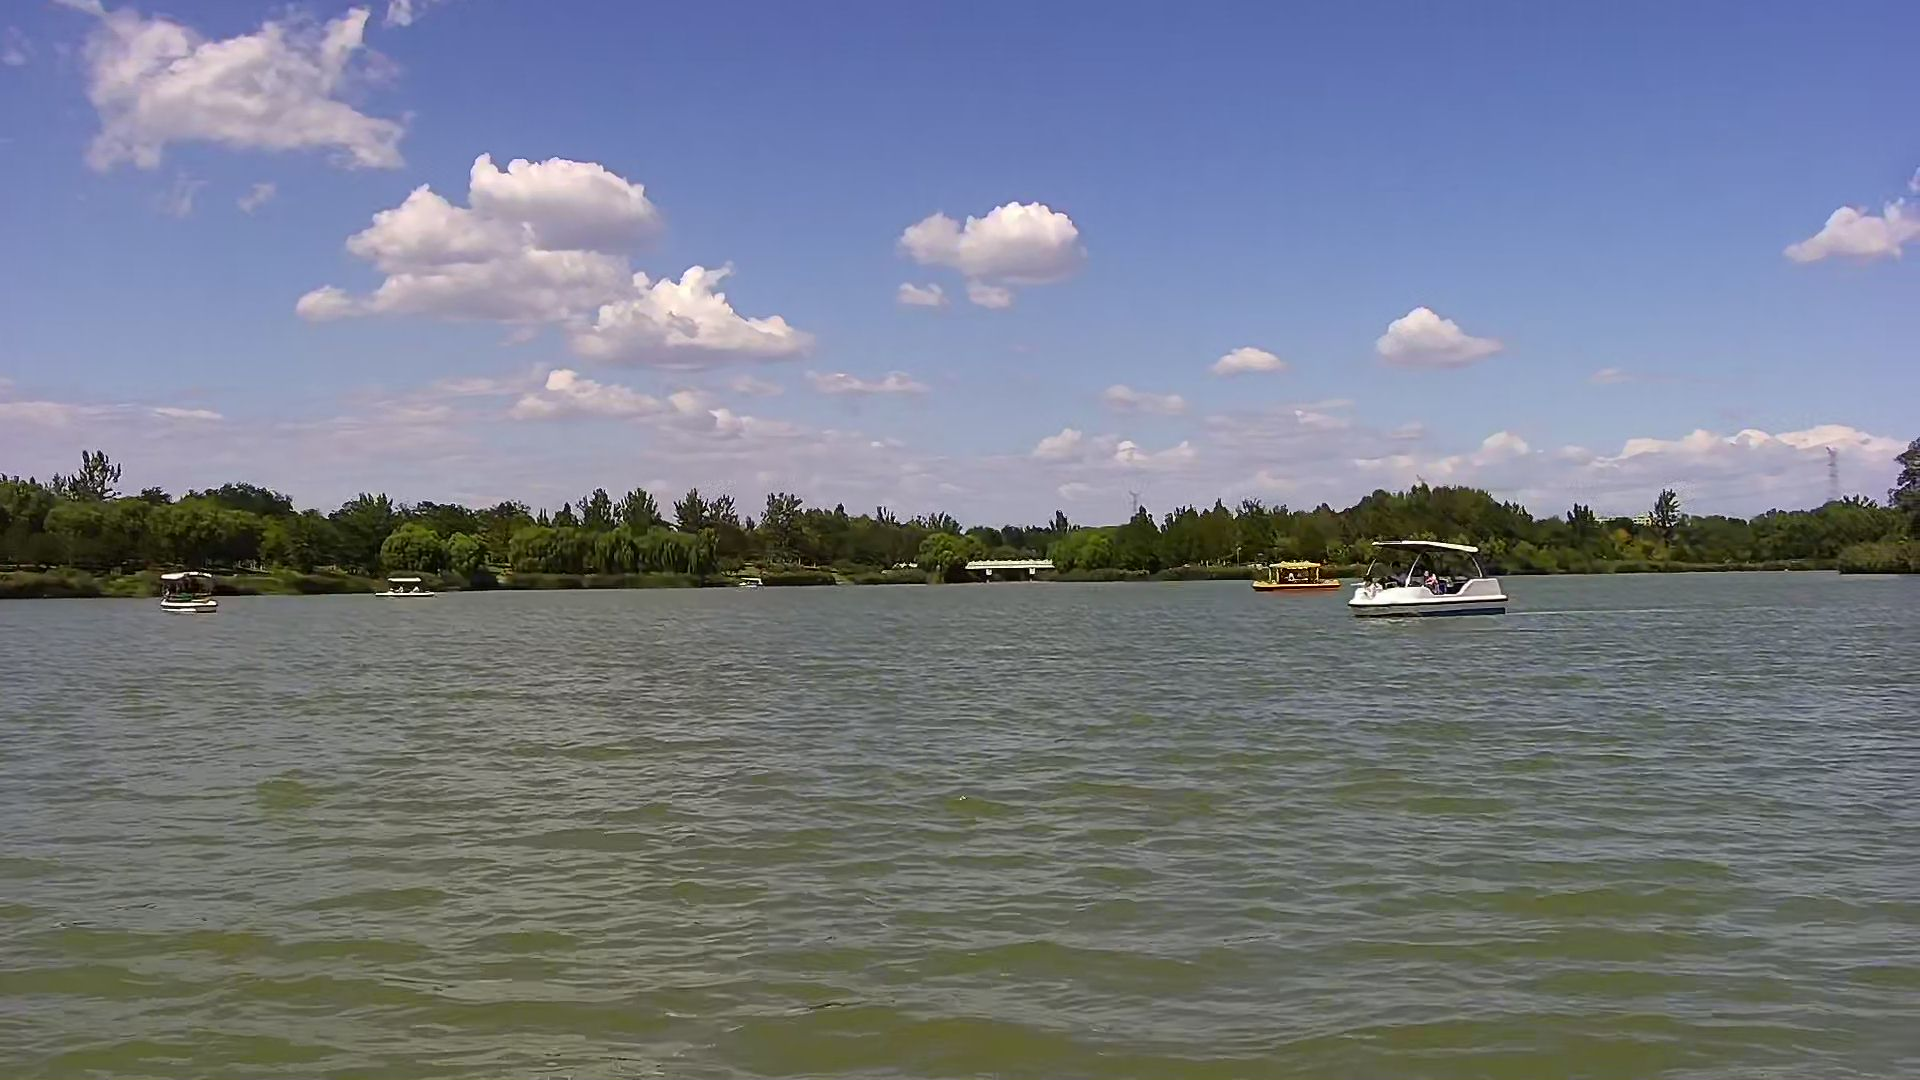boat: (1352, 535, 1505, 618), (160, 568, 218, 616), (1255, 558, 1336, 589), (375, 576, 433, 600)
bridge: (964, 556, 1055, 582)
